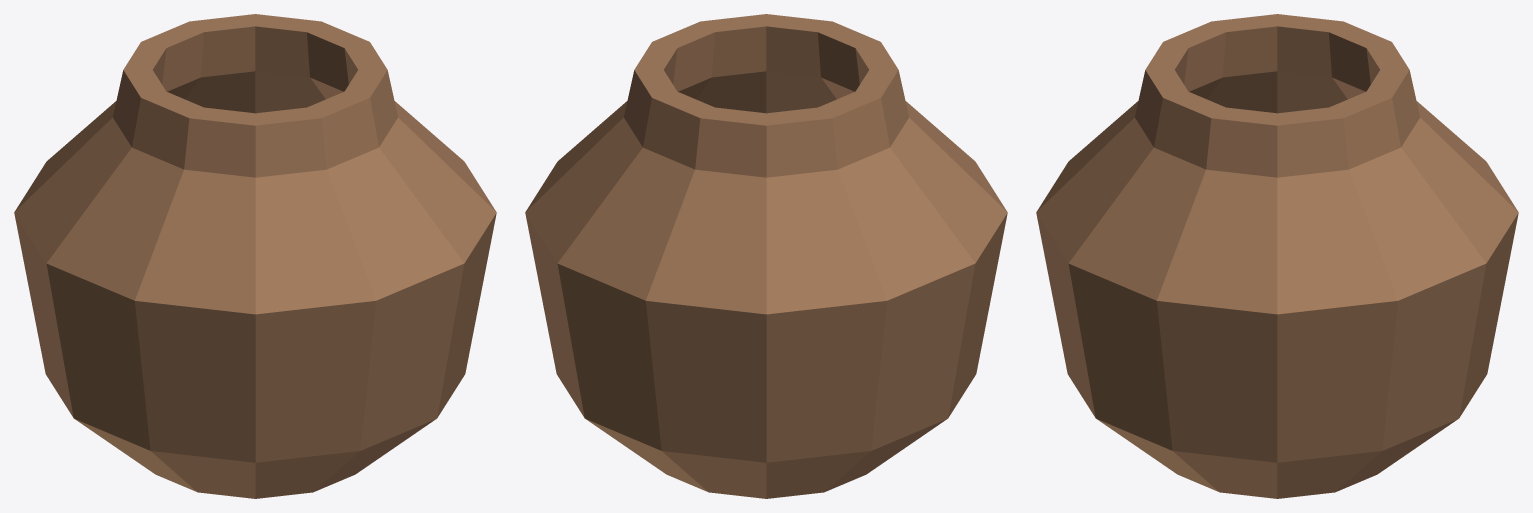
File: clay_pot.glb
3 renders of one model, left to right at view 1: azimuth 30°, elevation 25°; view 2: azimuth 150°, elevation 25°; view 3: azimuth 270°, elevation 25°, orthographic.
Parts seen in each view (by area): view 1: clay_pot; view 2: clay_pot; view 3: clay_pot.
Boxes of the visible parts, x1=… form: clay_pot: x1=14, y1=14, x2=496, y2=498; clay_pot: x1=525, y1=14, x2=1007, y2=498; clay_pot: x1=1036, y1=14, x2=1518, y2=498.
Bounding box in the file's own units: 0.46 × 0.4 × 0.46.
